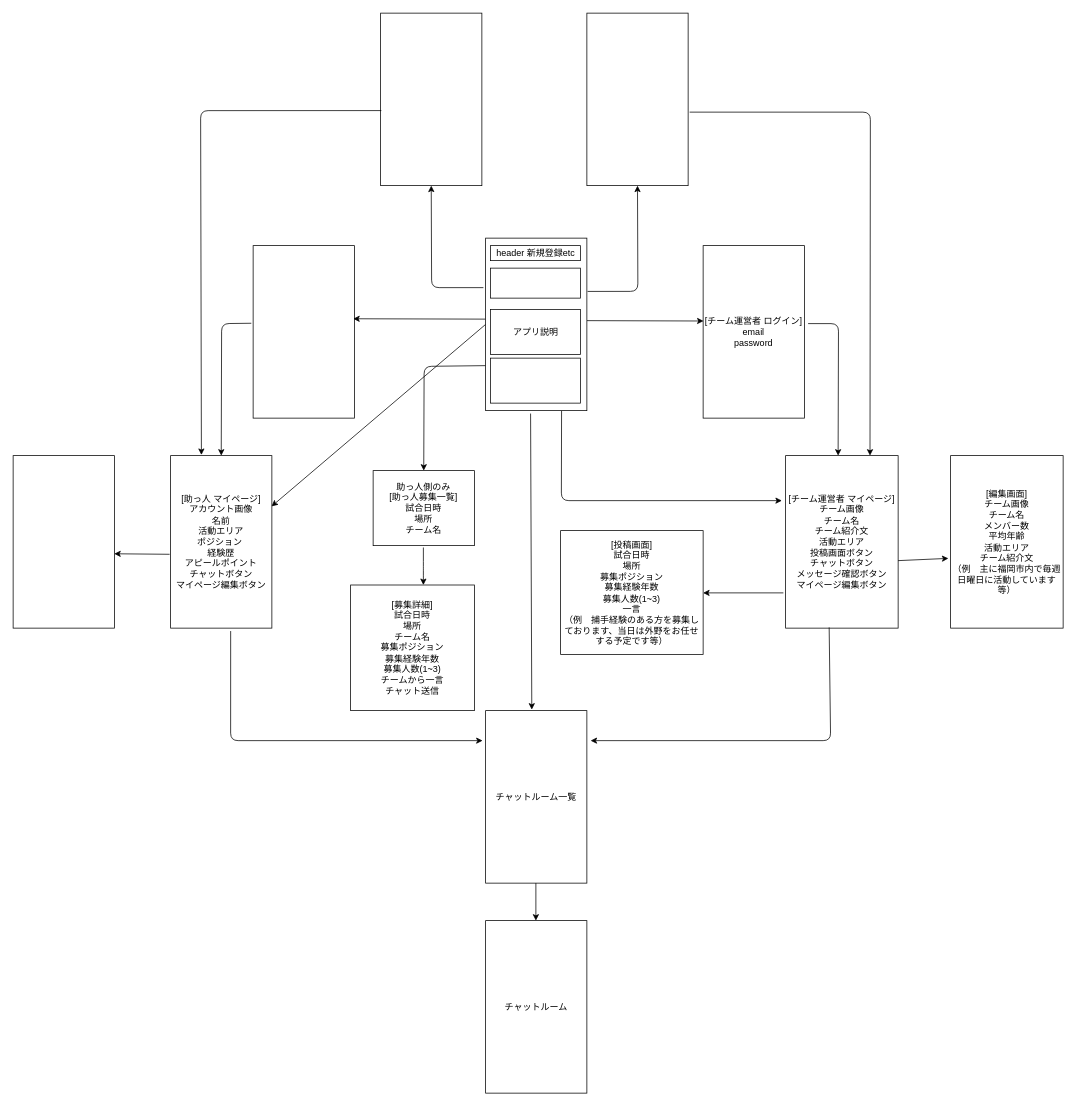
This 1076x1106 diagram has some shape labels left out. The box of each missing label's shape, as (x1, y1, x2, y2) in pixels:
[チーム運営者 新規登録] チーム名 email password password(確認): (586, 12, 688, 186)
[助っ人 新規登録] ニックネーム email password password(確認): (380, 12, 482, 186)
[助っ人ログイン] email password: (252, 245, 354, 418)
[編集画面] アカウント画像 名前 年齢 投／打 得意ポジション 経験ポジション 経験歴 選手タイプ 自己紹介: (12, 455, 114, 628)
条件検索: (490, 357, 580, 403)
野球画像など: (490, 267, 580, 298)
